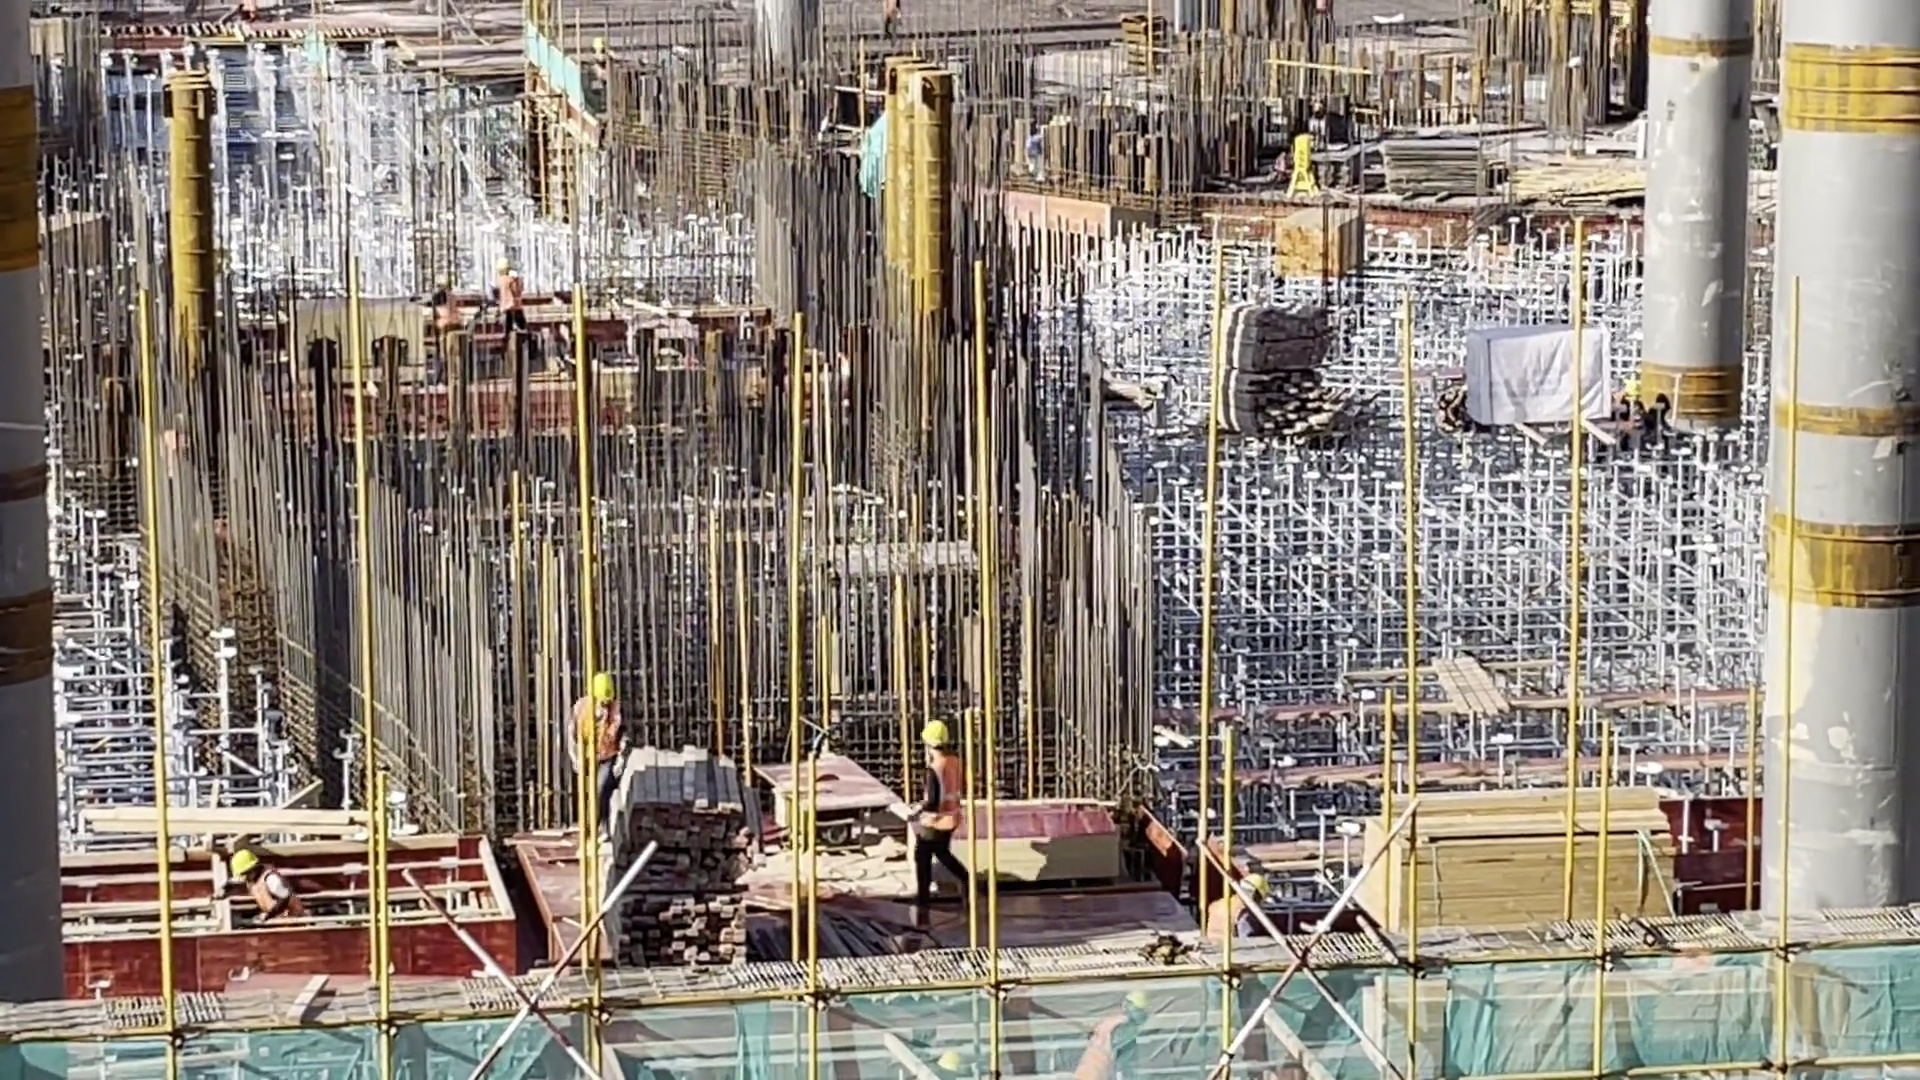board: (896, 796, 1130, 890)
helmet: (912, 708, 948, 750), (224, 845, 264, 881), (589, 665, 620, 708), (1245, 867, 1273, 902)
person: (906, 708, 973, 923), (1189, 856, 1281, 971), (571, 662, 623, 841), (219, 856, 303, 935), (415, 268, 482, 345), (489, 243, 526, 339)
vest: (923, 755, 963, 844), (563, 694, 613, 761), (241, 876, 290, 929), (1205, 894, 1241, 938)
wood: (1362, 795, 1706, 974), (584, 743, 754, 983)
